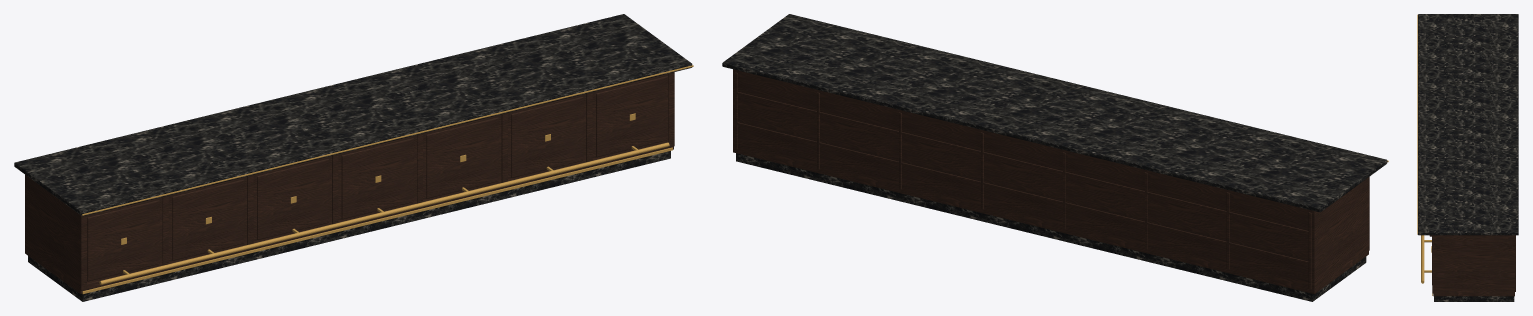
File: loan_counter_6080.glb
The picture shows the model from 3 angles, left to right: view 1: azimuth 30°, elevation 25°; view 2: azimuth 150°, elevation 25°; view 3: azimuth 270°, elevation 25°; orthographic projection. The views are drawn at different scales.
Parts seen in each view (by area): view 1: loan_counter_6080; view 2: loan_counter_6080; view 3: loan_counter_6080.
Boxes of the visible parts, x1,y1,x2,y2 form: loan_counter_6080: [14, 14, 693, 301]; loan_counter_6080: [722, 14, 1388, 301]; loan_counter_6080: [1417, 14, 1518, 301].
Bounding box in the file's own units: 7.21 × 1.13 × 1.41.
4 materials, 4 textured.
